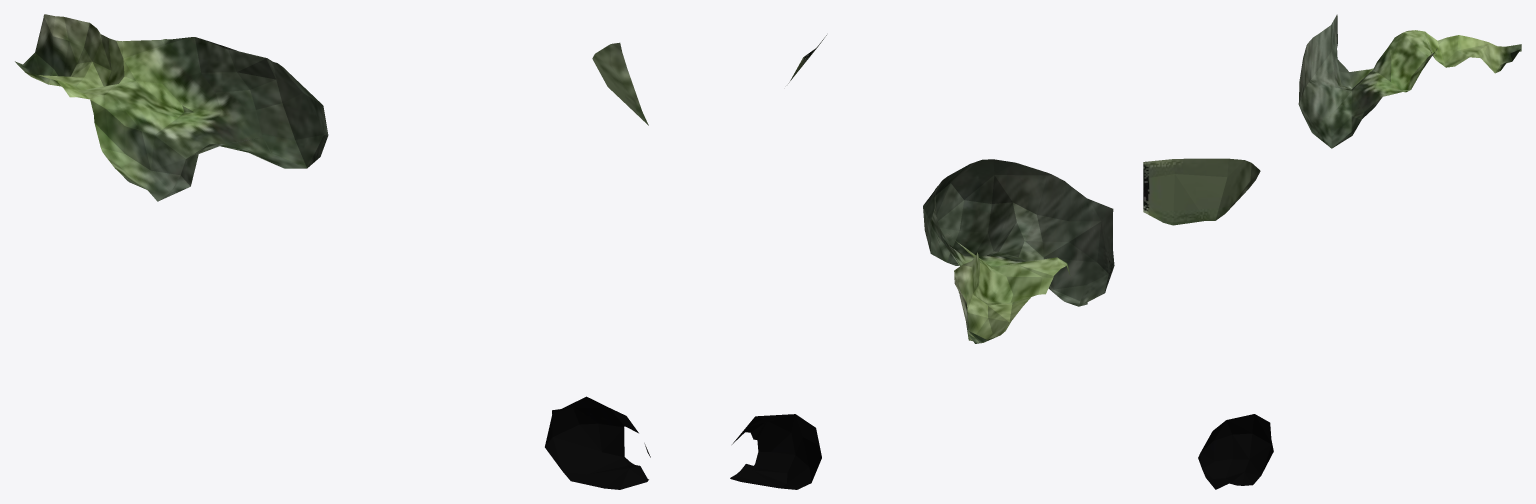
The picture shows the model from 3 angles, left to right: view 1: azimuth 30°, elevation 25°; view 2: azimuth 150°, elevation 25°; view 3: azimuth 270°, elevation 25°; orthographic projection. The views are drawn at different scales.
Bounding box in the file's own units: 5.9 × 5.48 × 5.9.
Materials: 1 (1 with a texture image).
